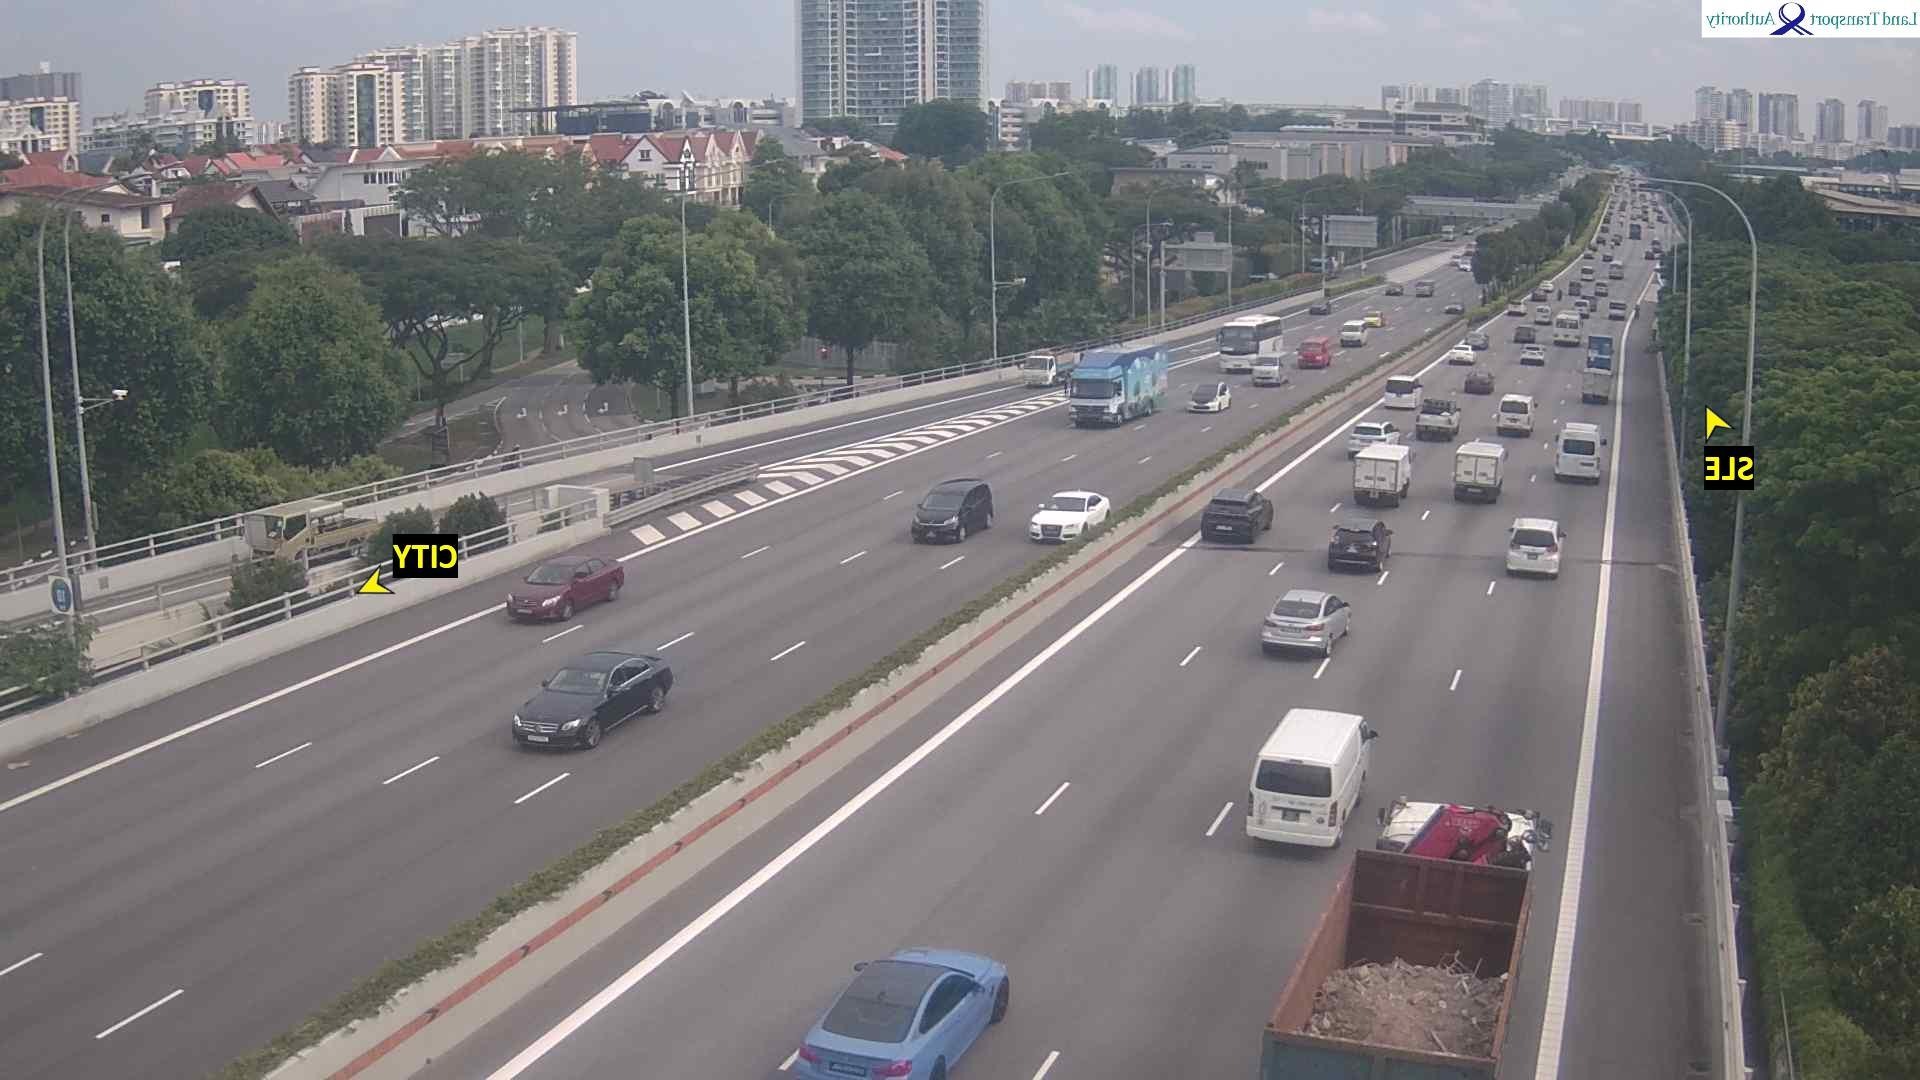incoming: (510, 665, 624, 751), (505, 561, 586, 623), (1063, 365, 1125, 428), (237, 511, 308, 565), (909, 490, 976, 543), (1025, 496, 1097, 544), (1215, 323, 1264, 374), (1016, 355, 1055, 389), (1187, 384, 1226, 412), (1251, 355, 1284, 388), (1295, 339, 1327, 370), (1339, 323, 1365, 347), (1308, 298, 1332, 316), (1413, 279, 1434, 297), (1441, 301, 1465, 315), (1363, 311, 1382, 328), (1440, 224, 1456, 243), (1384, 282, 1404, 297)
